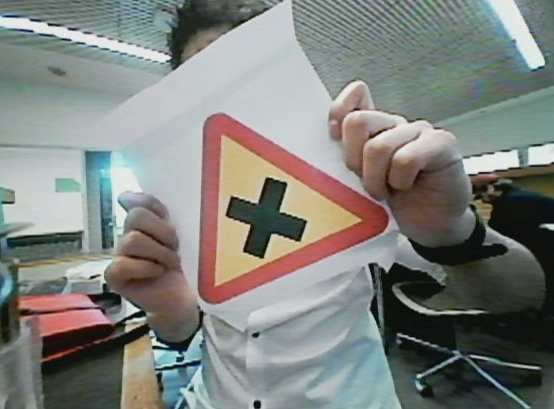junction: (184, 98, 398, 302)
